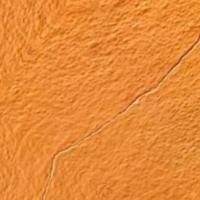crack: (49, 29, 199, 172)
